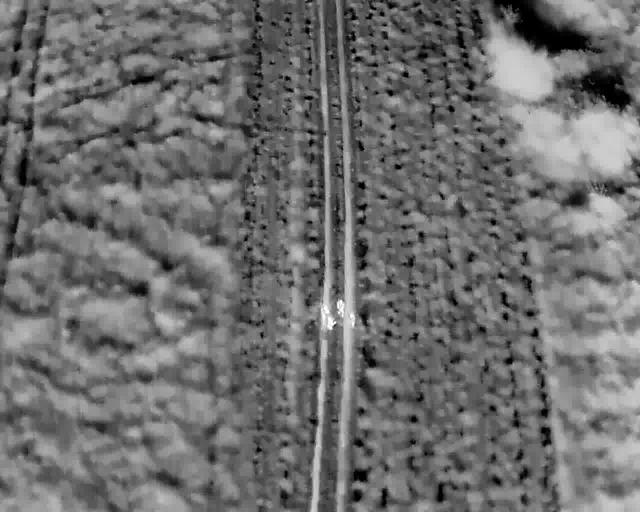person: (319, 304, 331, 325), (335, 298, 345, 320), (326, 314, 337, 331), (347, 311, 356, 329)
